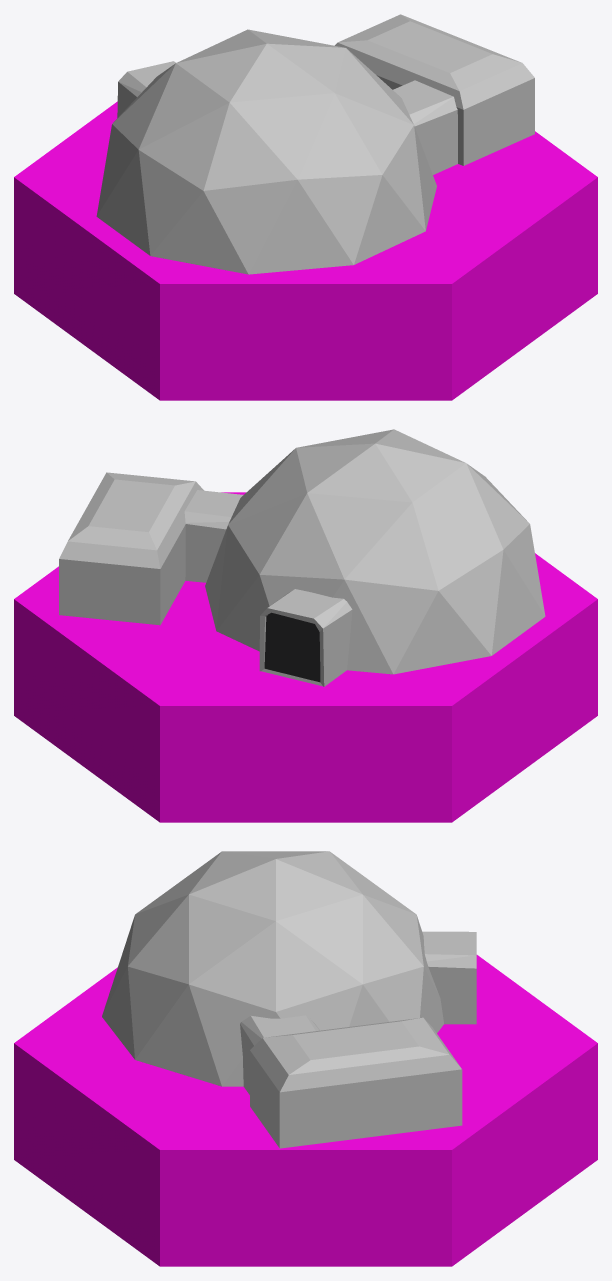
Rendered from defult town.fbx.
3 views of the same model, one above another, from view 1: azimuth 30°, elevation 25°; view 2: azimuth 150°, elevation 25°; view 3: azimuth 270°, elevation 25° (orthographic).
Parts seen in each view (by area): view 1: Cylinder; view 2: Cylinder; view 3: Cylinder.
Part boxes in pixels (x1=…): Cylinder: x1=14, y1=14, x2=597, y2=400; Cylinder: x1=14, y1=429, x2=597, y2=822; Cylinder: x1=14, y1=851, x2=597, y2=1266.
Bounding box in the file's own units: 1.73 × 1.19 × 2.
